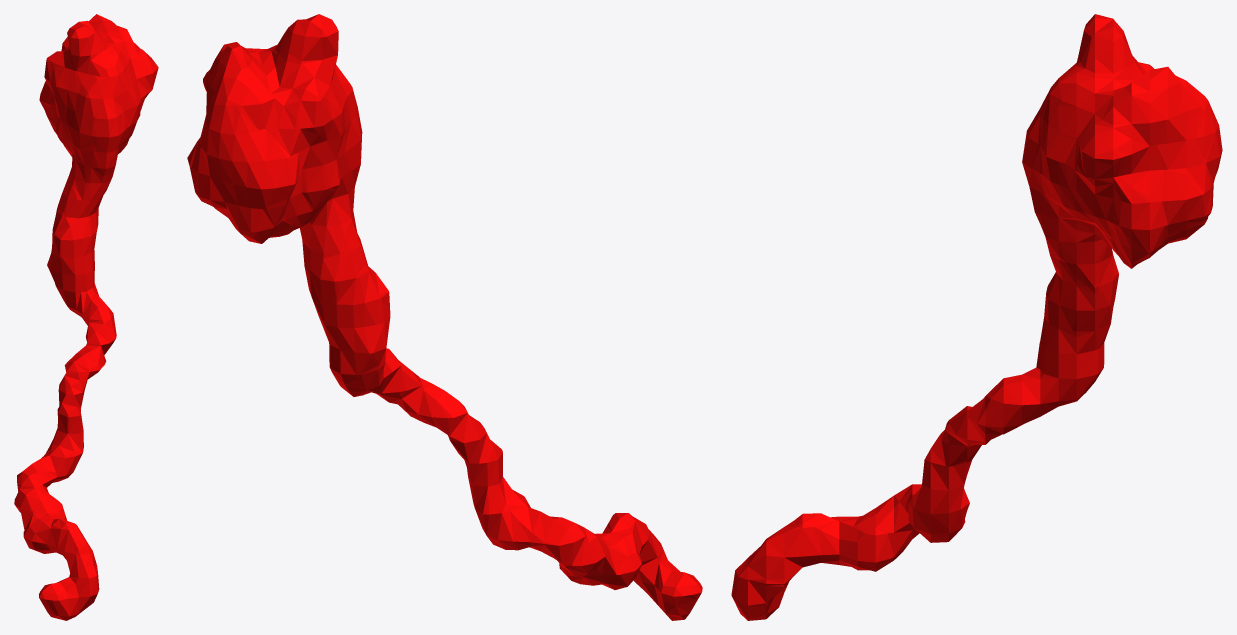
Rendered from yigA_coarse.dae.
3 renders of one model, left to right at view 1: azimuth 30°, elevation 25°; view 2: azimuth 150°, elevation 25°; view 3: azimuth 270°, elevation 25°, orthographic. The views are drawn at different scales.
Visible parts, largest first — view 1: yigA; view 2: yigA; view 3: yigA.
Boxes of the visible parts, bbox=[...] form: yigA: bbox=[14, 14, 158, 620]; yigA: bbox=[187, 14, 702, 620]; yigA: bbox=[731, 14, 1222, 620].
Size of the model in its own units: 84.42 by 165 by 105.
